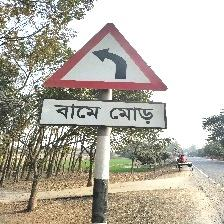Left-Turn: (38, 22, 169, 129)
